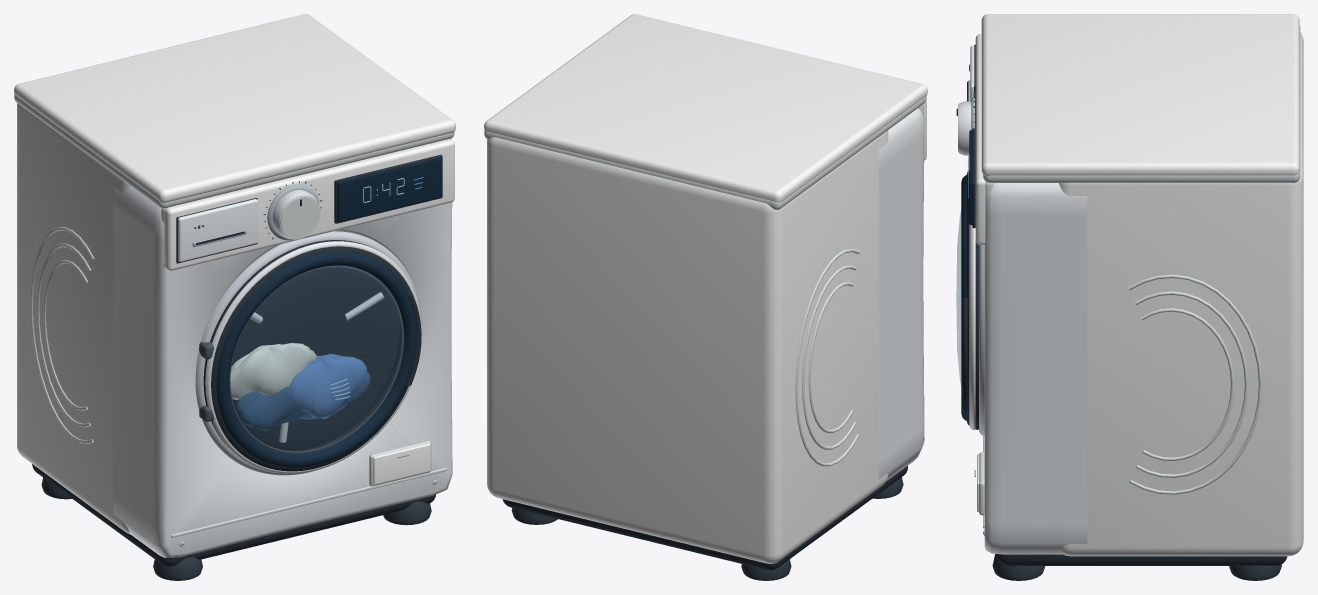
Rendered from washer.glb.
3 renders of one model, left to right at view 1: azimuth 30°, elevation 25°; view 2: azimuth 150°, elevation 25°; view 3: azimuth 270°, elevation 25°, orthographic. The views are drawn at different scales.
Visible parts, largest first — view 1: Assembly • Shell, Assembly • Porcelain, Door • Glass tint, Assembly • Carbon, Door • Front visor, Assembly • Oyster, Door • Graphite, Assembly • Display, Assembly • Graphite, Drum • Twill, Door • Nickel, Drum • Pale cloth (+7 smaller); view 2: Assembly • Shell, Assembly • Porcelain, Assembly • Oyster, Assembly • Graphite, Assembly • Soft rubber; view 3: Assembly • Shell, Assembly • Porcelain, Assembly • Oyster, Assembly • Graphite, Door • Graphite, Door • Bright chrome, Assembly • Soft rubber, Door • Nickel, Door • Front visor, Assembly • Bright chrome, Door • Glass tint.
Boxes of the visible parts, <box> form: Assembly • Shell: <box>14,14,455,534</box>; Assembly • Porcelain: <box>113,186,452,557</box>; Door • Glass tint: <box>230,266,404,453</box>; Assembly • Carbon: <box>196,231,399,450</box>; Door • Front visor: <box>216,252,416,467</box>; Assembly • Oyster: <box>14,94,454,537</box>; Door • Graphite: <box>203,240,421,471</box>; Assembly • Display: <box>337,157,442,221</box>; Assembly • Graphite: <box>32,154,442,566</box>; Drum • Twill: <box>289,354,370,419</box>; Door • Nickel: <box>195,231,422,475</box>; Drum • Pale cloth: <box>230,343,316,399</box>; Assembly • Shell: <box>484,14,927,563</box>; Assembly • Porcelain: <box>878,108,924,480</box>; Assembly • Oyster: <box>484,96,926,466</box>; Assembly • Graphite: <box>502,466,907,570</box>; Assembly • Soft rubber: <box>511,477,903,580</box>; Assembly • Shell: <box>975,14,1303,556</box>; Assembly • Porcelain: <box>970,45,1087,554</box>; Assembly • Oyster: <box>958,25,1300,528</box>; Assembly • Graphite: <box>956,44,1287,565</box>; Door • Graphite: <box>962,170,978,429</box>; Door • Bright chrome: <box>969,224,975,430</box>; Assembly • Soft rubber: <box>992,554,1281,580</box>; Door • Nickel: <box>979,244,984,436</box>; Door • Front visor: <box>961,175,966,420</box>; Assembly • Bright chrome: <box>959,101,971,155</box>; Door • Glass tint: <box>956,213,960,382</box>.
Bounding box in the file's own units: 1.05 × 1.36 × 1.01.
